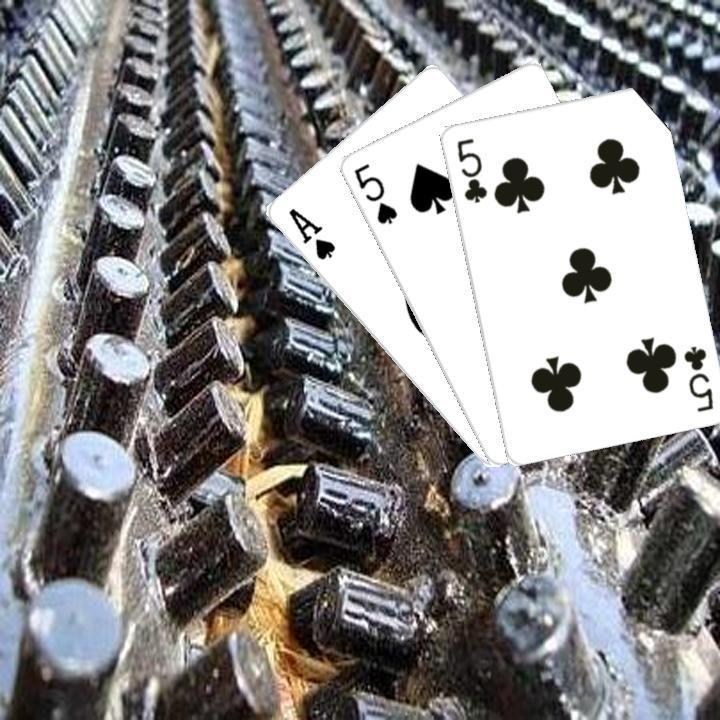5: (348, 159, 399, 227), (452, 133, 489, 205), (679, 341, 715, 413)
A: (283, 204, 337, 263)
